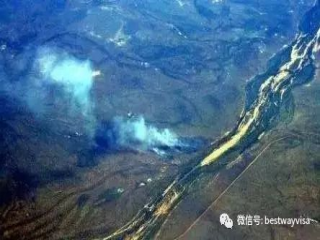smoke: (31, 49, 104, 139), (118, 114, 185, 150)
